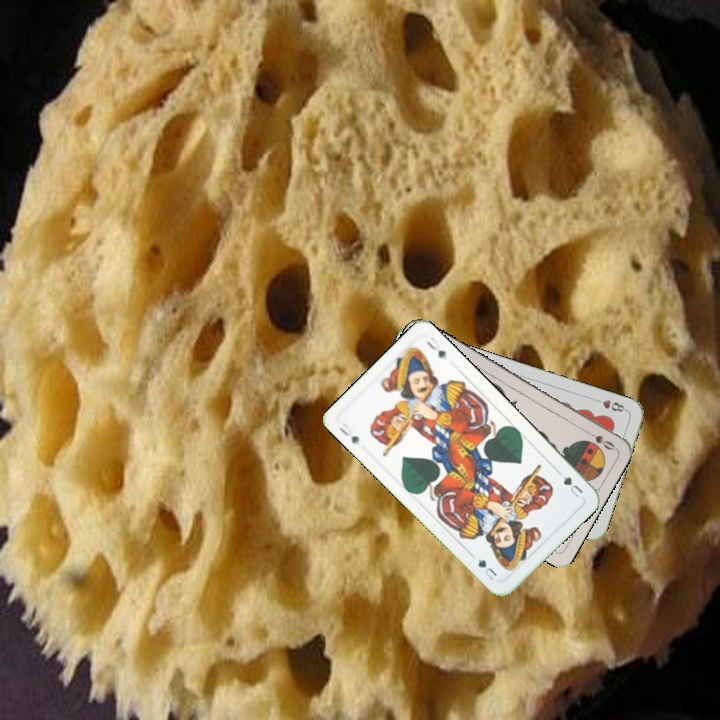GU: (559, 471, 586, 501), (335, 419, 362, 447)
H8: (590, 395, 629, 415)
SO: (580, 426, 618, 453)
